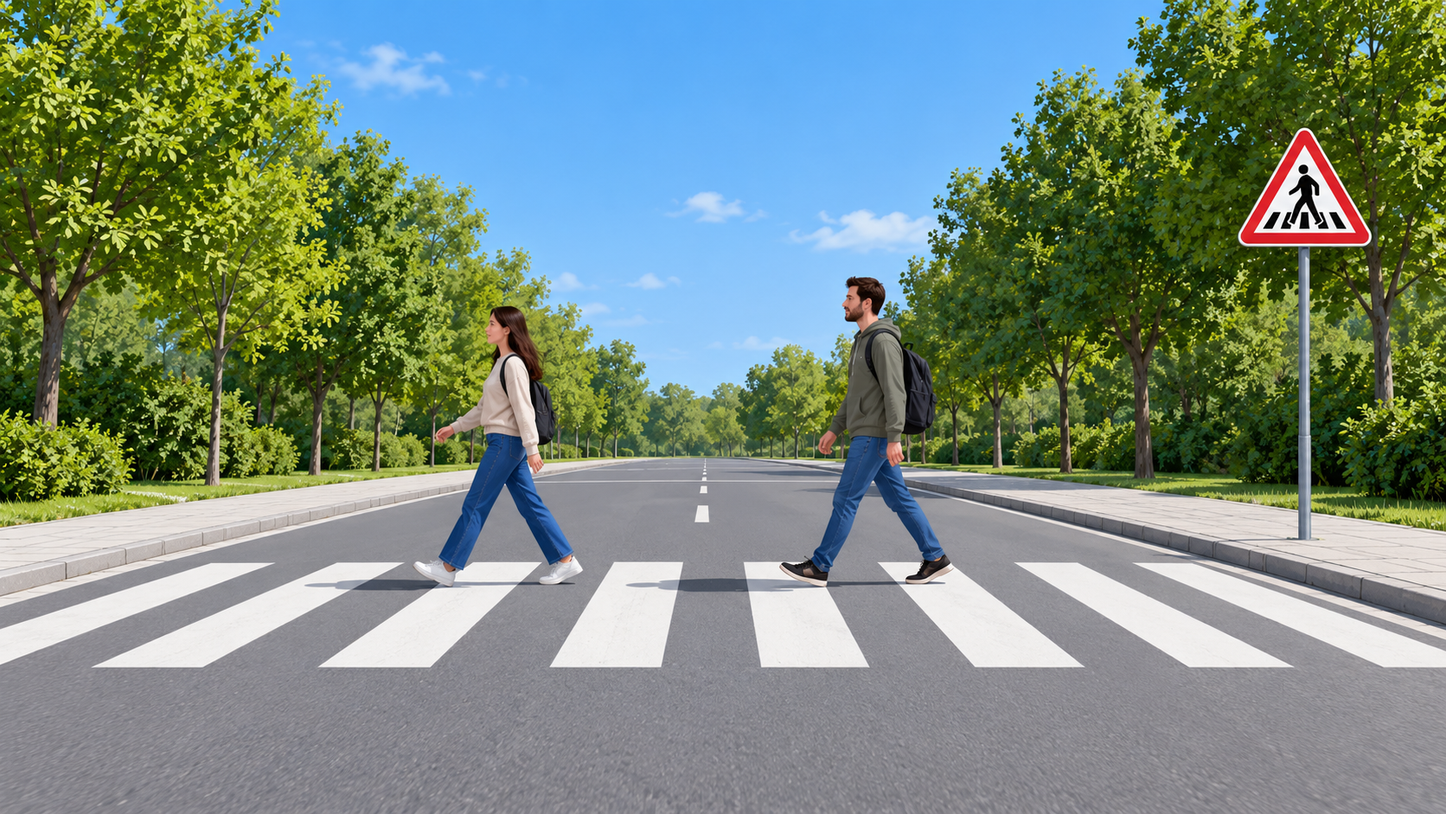crossing_warning_sign: (1237, 124, 1375, 248)
person: (777, 273, 956, 589), (410, 278, 585, 587)
zebra_crossing: (91, 554, 1295, 673)
